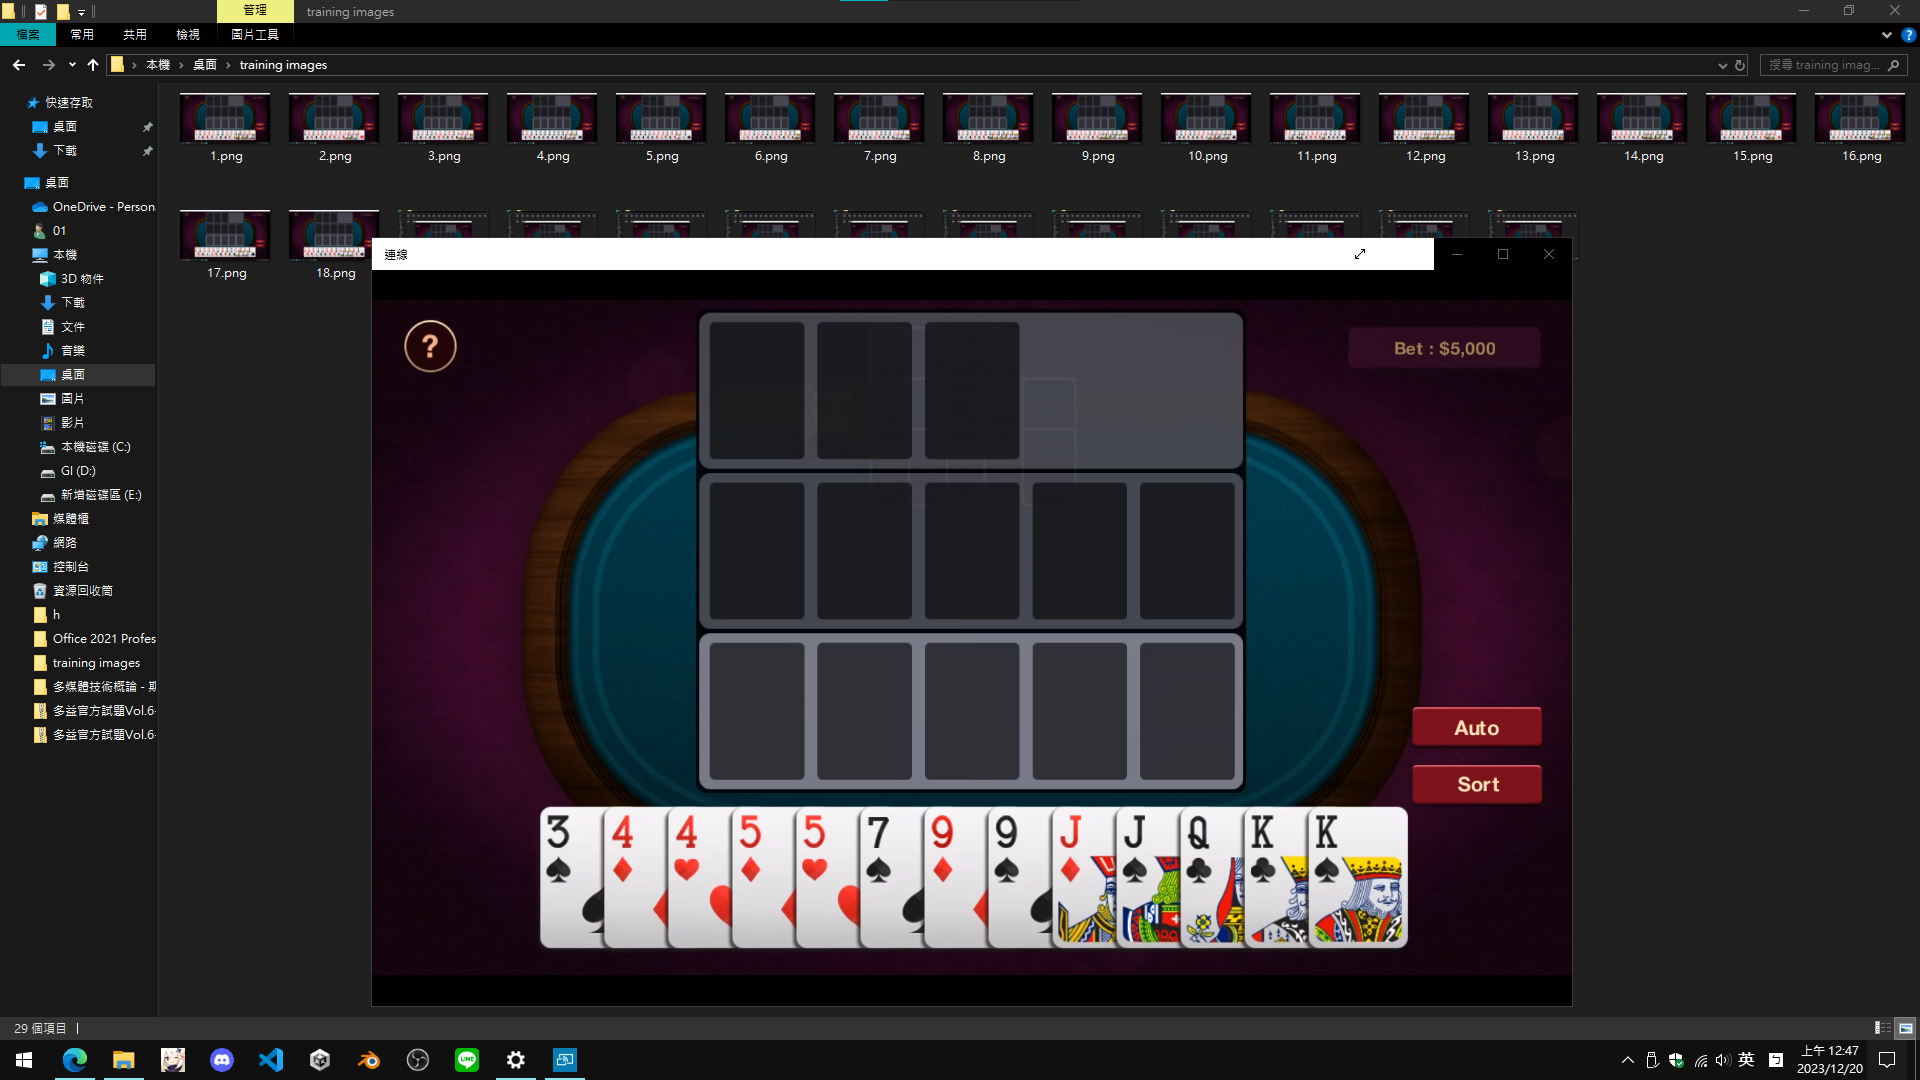3S: (542, 811, 575, 889)
4D: (609, 811, 634, 885)
4H: (671, 814, 703, 885)
5D: (737, 811, 765, 887)
5H: (800, 811, 832, 886)
7S: (862, 811, 895, 889)
9D: (926, 812, 957, 886)
9S: (990, 811, 1025, 890)
JD: (1056, 811, 1088, 887)
JS: (1120, 811, 1154, 886)
KC: (1249, 811, 1280, 889)
KS: (1311, 811, 1344, 889)
QC: (1185, 811, 1215, 887)
